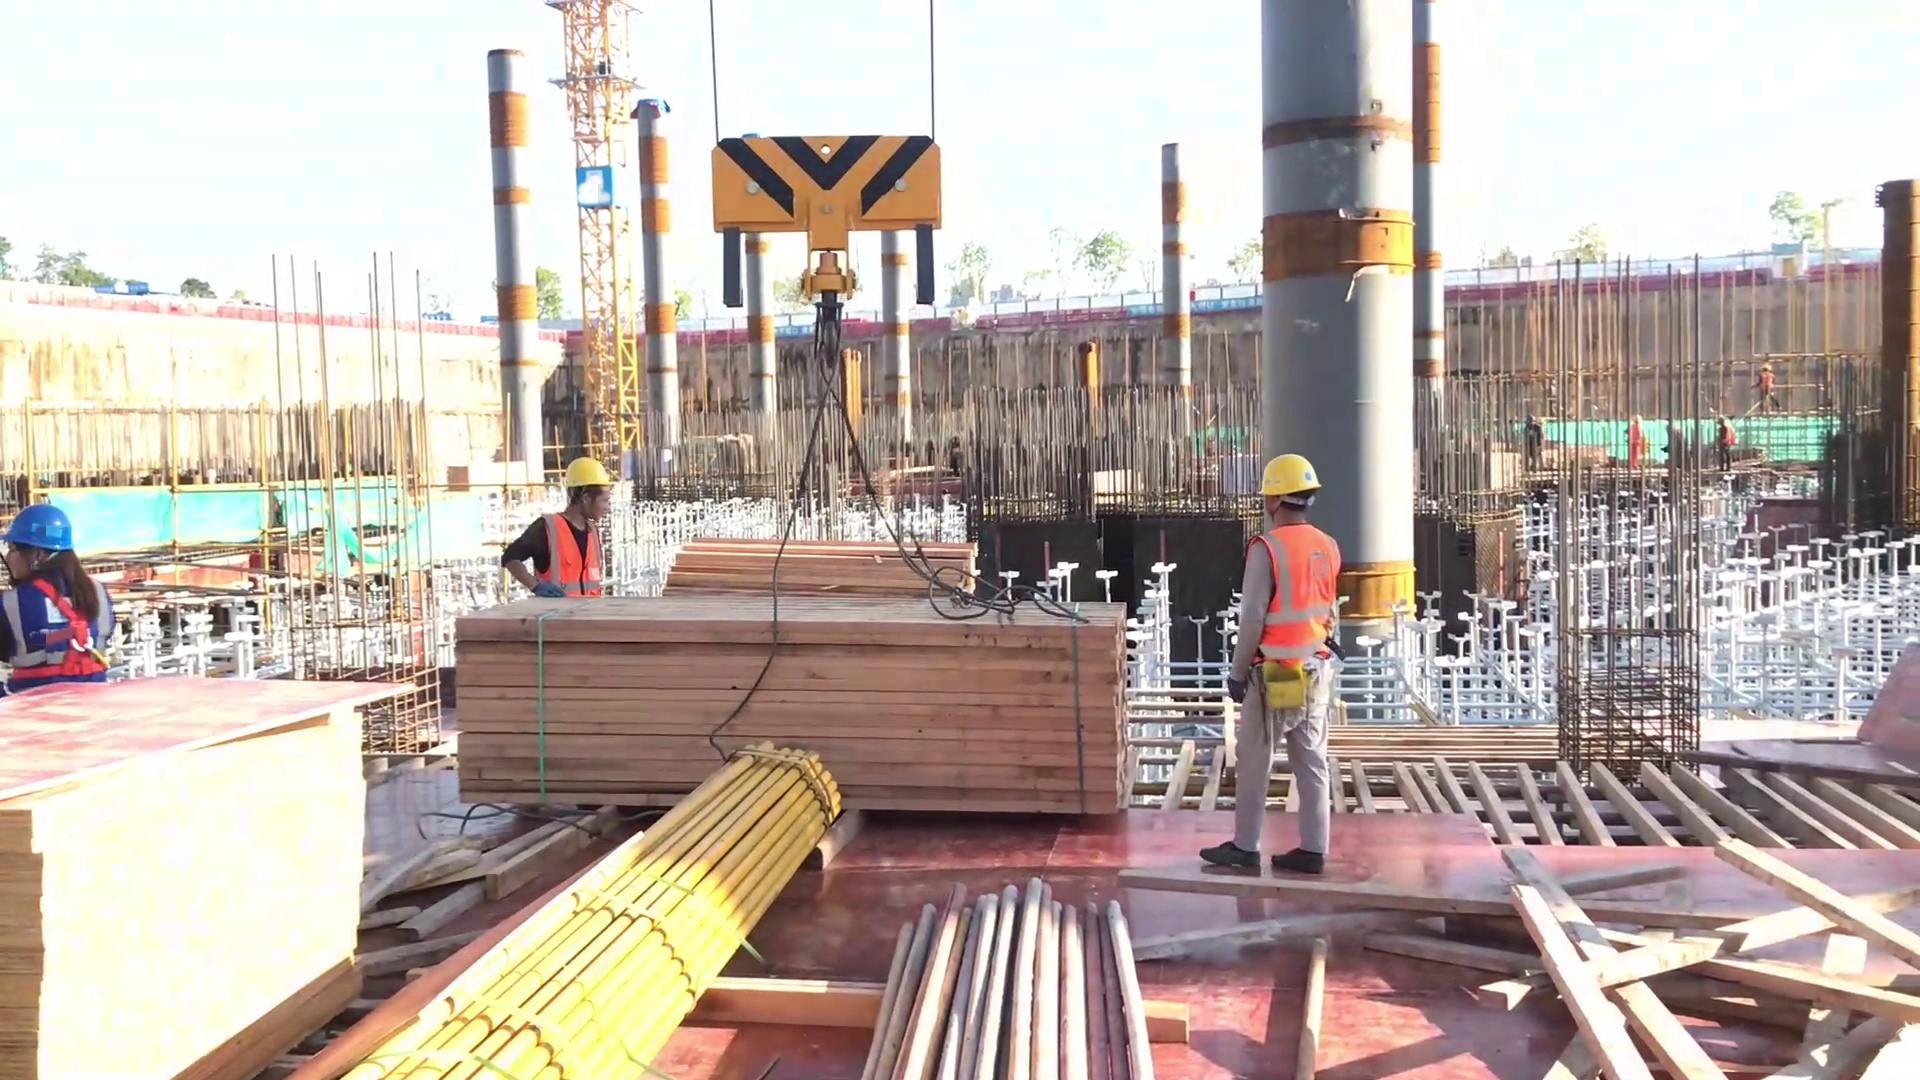board: (1, 676, 475, 1077)
helmet: (4, 493, 93, 564), (1247, 446, 1324, 512), (558, 447, 623, 503)
hook: (709, 112, 955, 327)
person: (1205, 435, 1361, 881), (1, 501, 142, 681), (477, 443, 623, 608)
rebar: (863, 892, 1201, 1080)
vest: (1254, 514, 1343, 669), (1, 572, 102, 681), (520, 504, 617, 603)
wood: (443, 573, 1140, 834)
